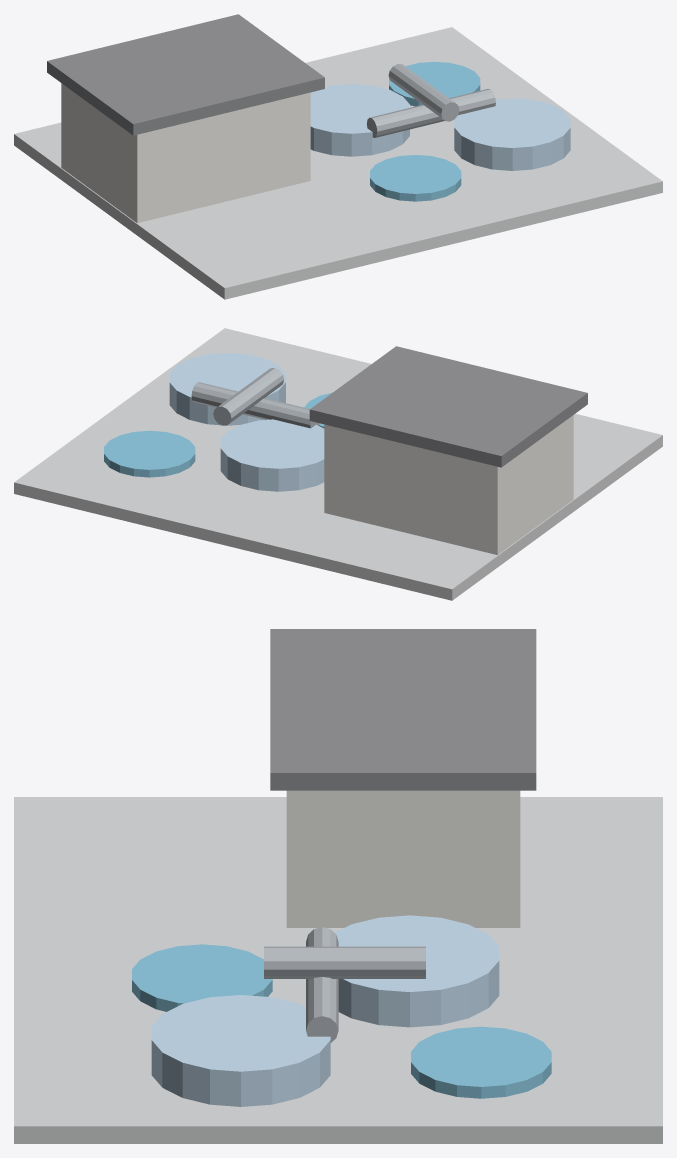
Rendered from waterworks.glb.
The picture shows the model from 3 angles, top to bottom: view 1: azimuth 30°, elevation 25°; view 2: azimuth 150°, elevation 25°; view 3: azimuth 270°, elevation 25°; orthographic projection. The views are drawn at different scales.
Visible parts, largest first — view 1: base, building, roof, tank_2, tank_1, clarifier_1, pipe_main, clarifier_2, pipe_cross; view 2: base, building, roof, tank_1, tank_2, clarifier_2, pipe_main, pipe_cross; view 3: base, roof, building, tank_2, tank_1, clarifier_2, clarifier_1, pipe_cross, pipe_main.
Part boxes in pixels (box(x1,y1,x2,y2)): base: box(14, 27, 662, 299); building: box(61, 83, 310, 223); roof: box(47, 14, 324, 135); tank_2: box(454, 98, 570, 170); tank_1: box(310, 84, 409, 156); clarifier_1: box(370, 155, 461, 201); pipe_main: box(367, 89, 495, 137); clarifier_2: box(389, 61, 480, 106); pipe_cross: box(388, 64, 459, 121); base: box(14, 328, 662, 600); building: box(324, 415, 573, 554); roof: box(309, 346, 587, 467); tank_1: box(220, 419, 324, 491); tank_2: box(169, 353, 285, 425); clarifier_2: box(104, 430, 195, 477); pipe_main: box(191, 382, 319, 428); pipe_cross: box(213, 368, 283, 425); base: box(14, 797, 662, 1143); roof: box(270, 629, 536, 790); building: box(286, 790, 520, 927); tank_2: box(151, 995, 330, 1106); tank_1: box(335, 915, 499, 1027); clarifier_2: box(411, 1026, 551, 1098); clarifier_1: box(132, 944, 272, 1011); pipe_cross: box(264, 946, 425, 978); pipe_main: box(306, 927, 338, 1042).
Size of the model in its own units: 2.45 by 0.61 by 2.
